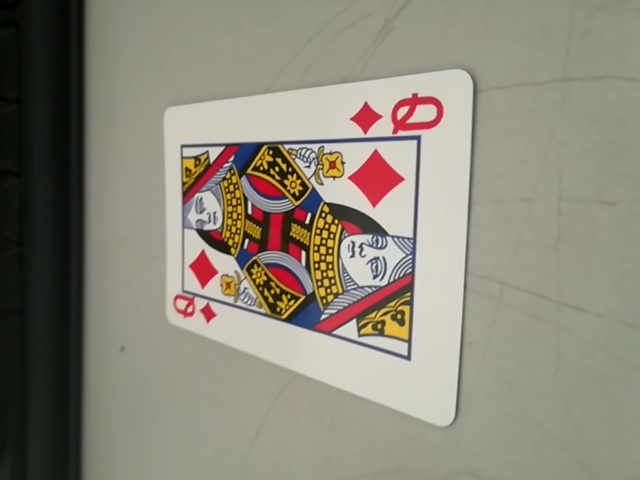fk q: (351, 88, 452, 141), (168, 288, 223, 330)
